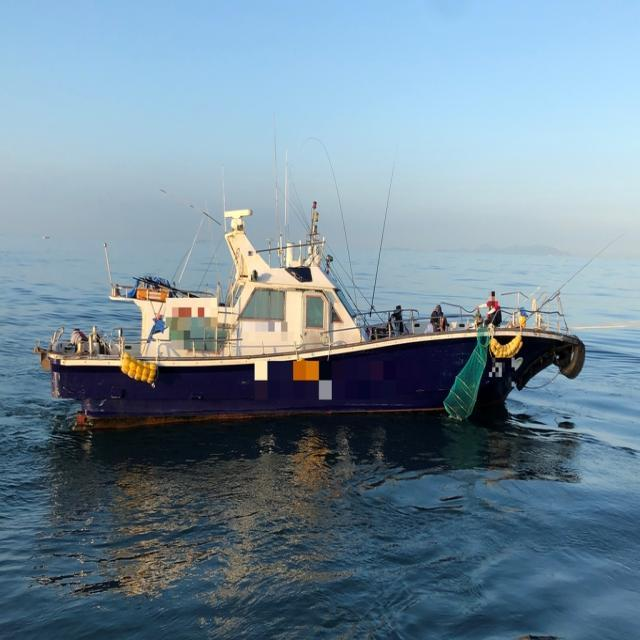Ship: (29, 140, 594, 444)
